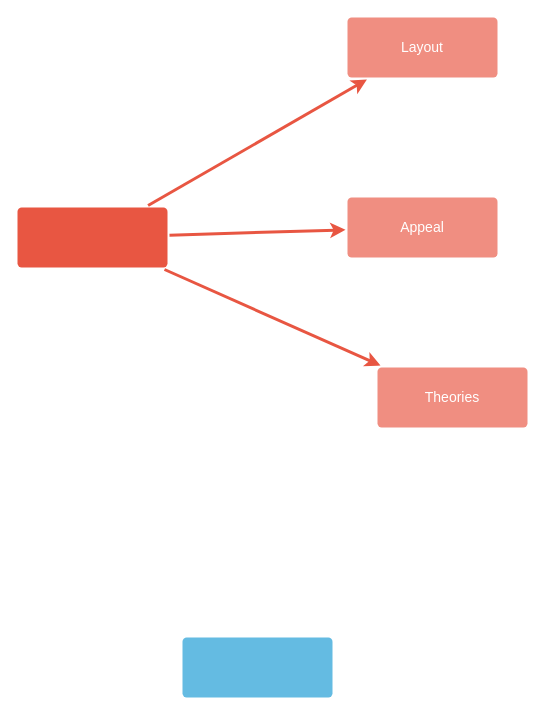
The diagram is 544 pixels wide and 714 high, and some of its shapes have lost their labels. Here are the shapes that lost their labels. From the top down, the centre of each, then its label:
At point 92,237: "Embassy".
At point 257,667: "Analysis".
